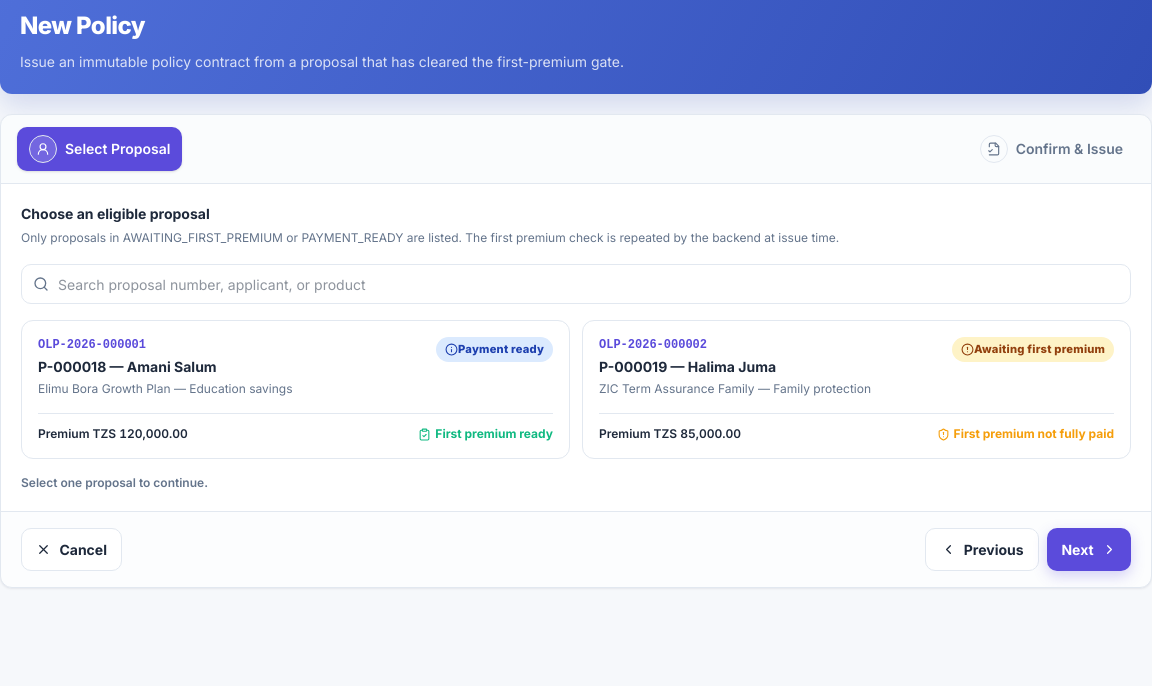
Scenario: PolicyIssuanceWizard › issues a ready proposal, shows the required toast, and redirects to policy detail
This screenshot has width=1152, height=686.
Later steps or results of the test are not shown.
Click the button "OLP-2026-000001": (296, 390) [21,320,570,459]
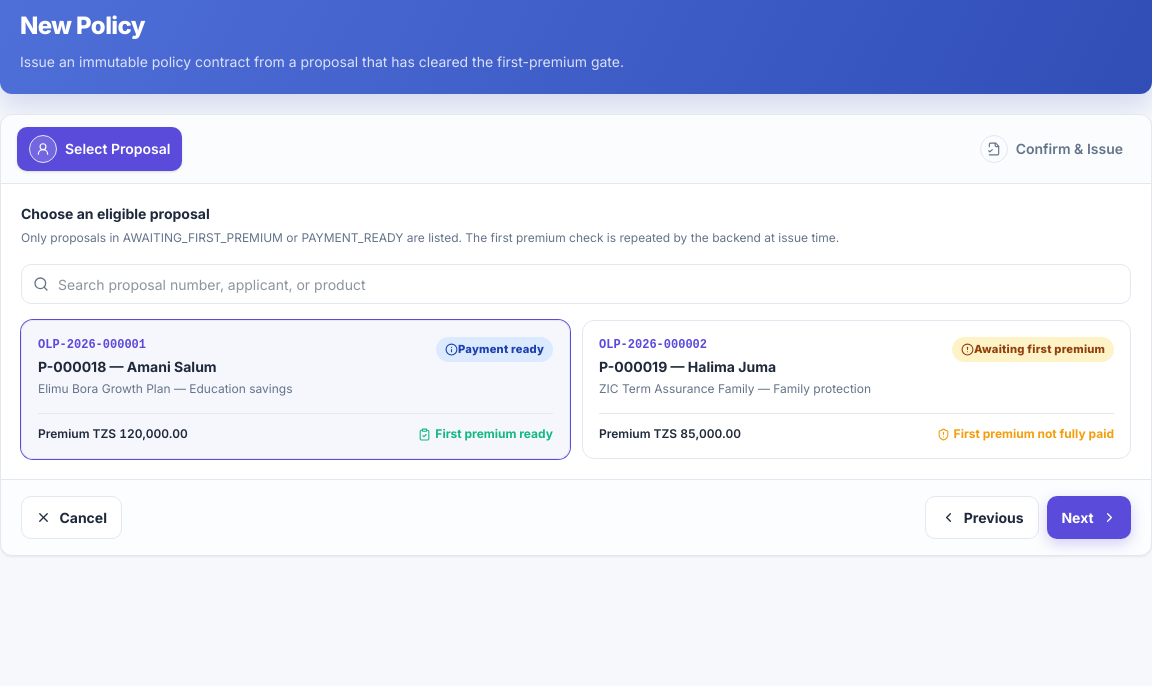
Click the button "Next": (1089, 518) [1047,496,1131,539]
(page scrolled)
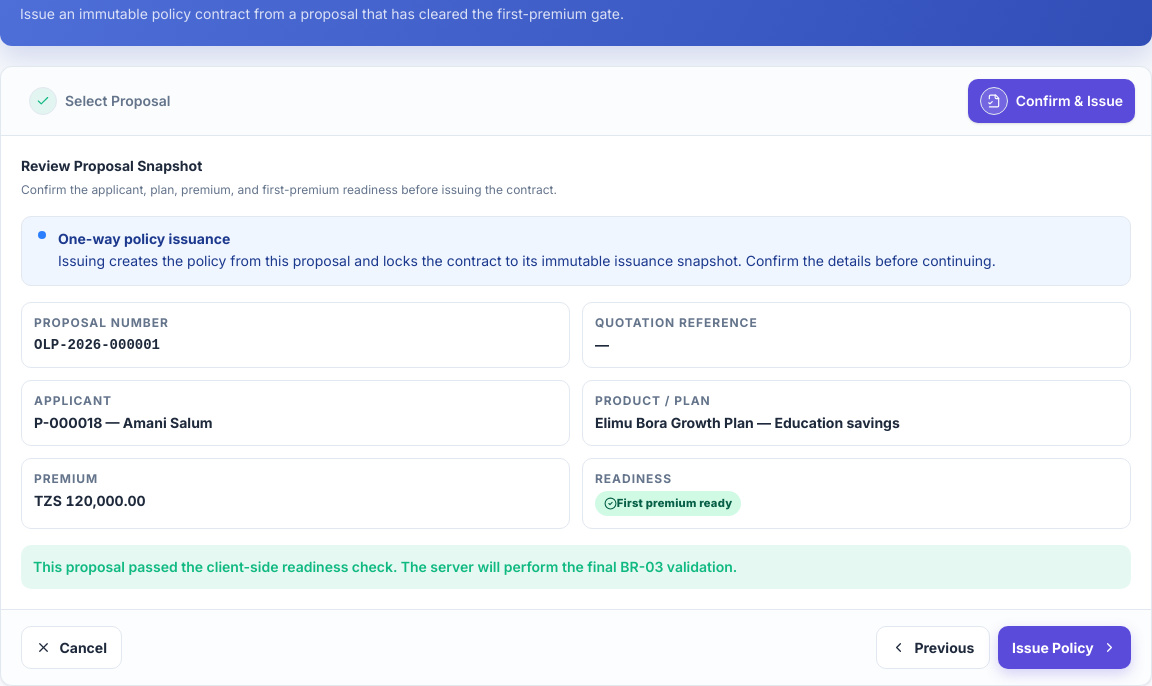
Expected: the button "Issue Policy" is enabled, [998,626,1131,669]
Result: the element with test id "issuance-confirm-step" is shown
